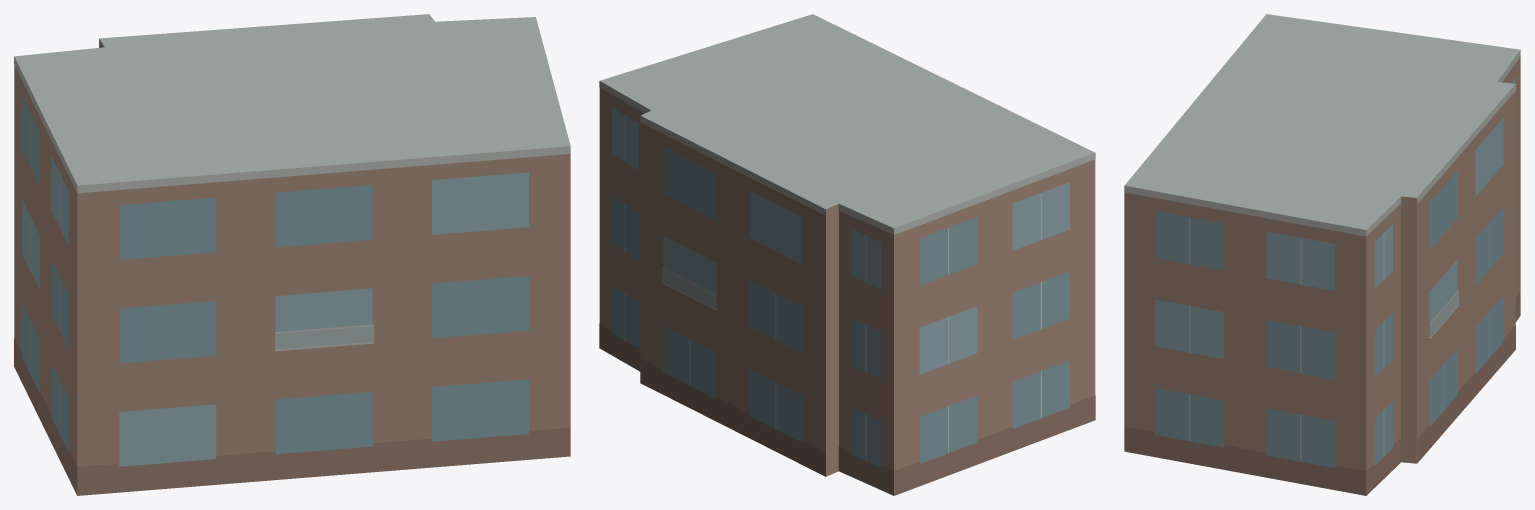
File: survey-upis-32944136.glb
The picture shows the model from 3 angles, left to right: view 1: azimuth 30°, elevation 25°; view 2: azimuth 150°, elevation 25°; view 3: azimuth 270°, elevation 25°; orthographic projection. The views are drawn at different scales.
Parts seen in each view (by area): view 1: survey-upis-32944136.tmp; view 2: survey-upis-32944136.tmp; view 3: survey-upis-32944136.tmp.
Part boxes in pixels (bbox=[...]): survey-upis-32944136.tmp: bbox=[14, 14, 570, 495]; survey-upis-32944136.tmp: bbox=[599, 14, 1095, 495]; survey-upis-32944136.tmp: bbox=[1124, 14, 1520, 495].
Size of the model in its own units: 17.09 by 9.8 by 13.25.
